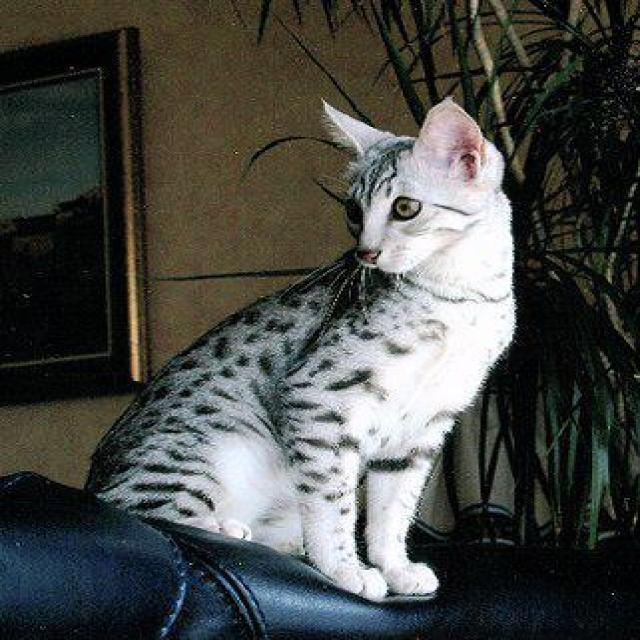cat: (81, 95, 512, 598)
